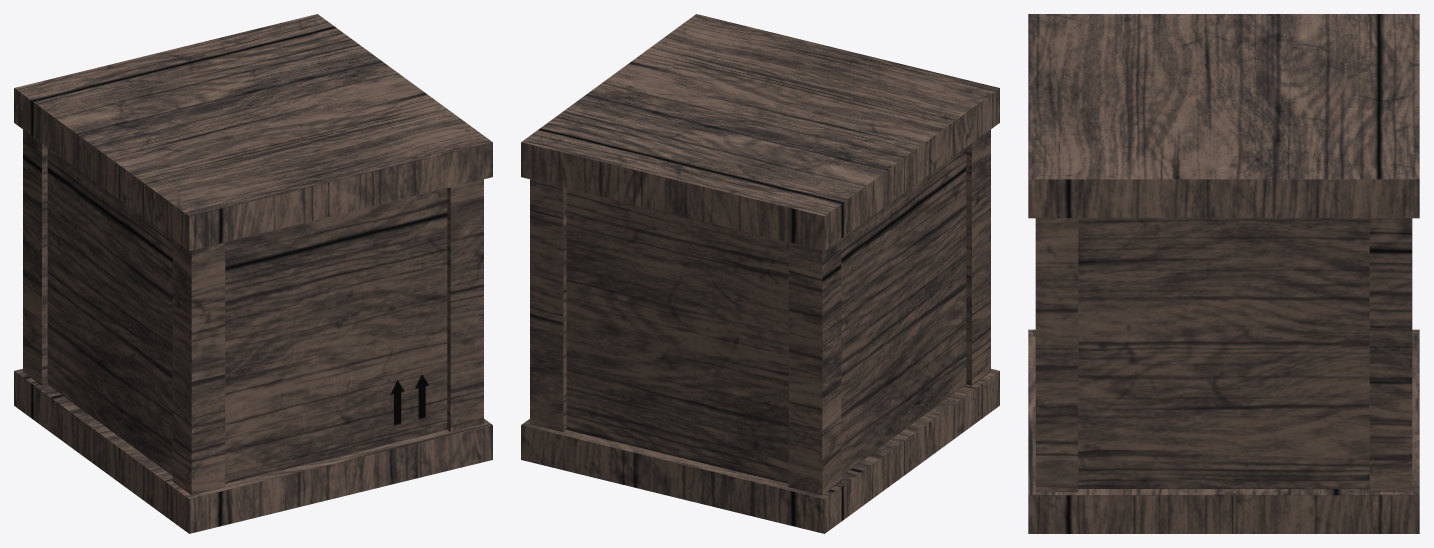
File: crate.fbx
The picture shows the model from 3 angles, left to right: view 1: azimuth 30°, elevation 25°; view 2: azimuth 150°, elevation 25°; view 3: azimuth 270°, elevation 25°; orthographic projection. The views are drawn at different scales.
Parts seen in each view (by area): view 1: crate; view 2: crate; view 3: crate.
Part boxes in pixels (x1,y1,x2,y2): crate: (14,14,492,533); crate: (521,14,999,533); crate: (1028,14,1419,533).
Size of the model in its own units: 1.08 by 1.08 by 1.08.
